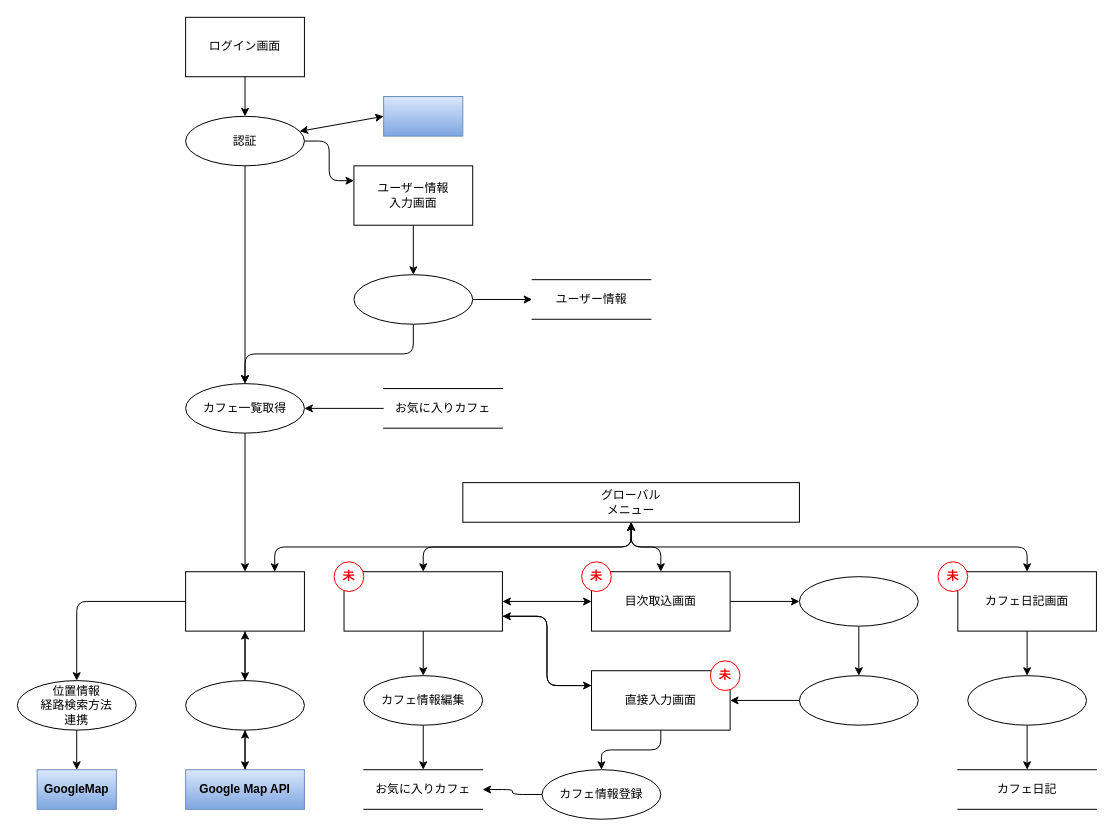
The diagram is 1114 pixels wide and 837 high, and some of its shapes have lost their labels. Here are the shapes that lost their labels. From the top down, the box of each, then its label:
(383, 96, 463, 136): Auth0
(353, 274, 473, 324): 登録
(185, 571, 304, 631): カフェMAP画面
(343, 571, 502, 631): お気に入りのカフェ画面
(798, 576, 918, 626): WEBカメラ 画像取得
(185, 680, 304, 730): 位置・距離情報取得
(798, 675, 918, 725): OCR読み取り
(967, 675, 1087, 725): カフェ日記 編集・登録
